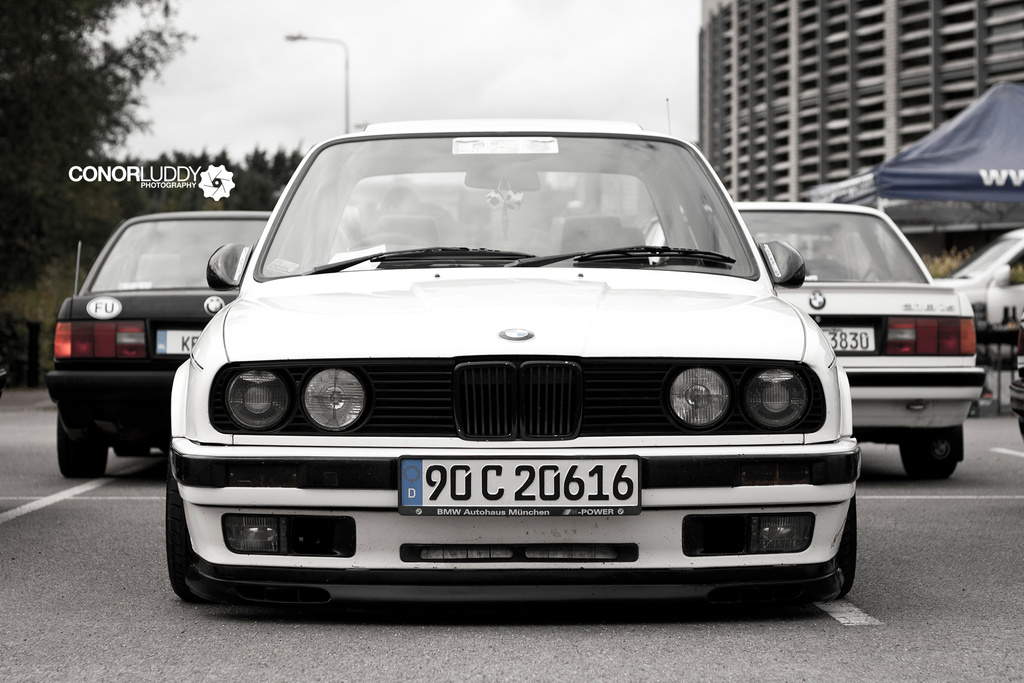Car: (160, 123, 858, 609), (646, 203, 983, 477), (41, 208, 274, 471), (946, 228, 1022, 399)
